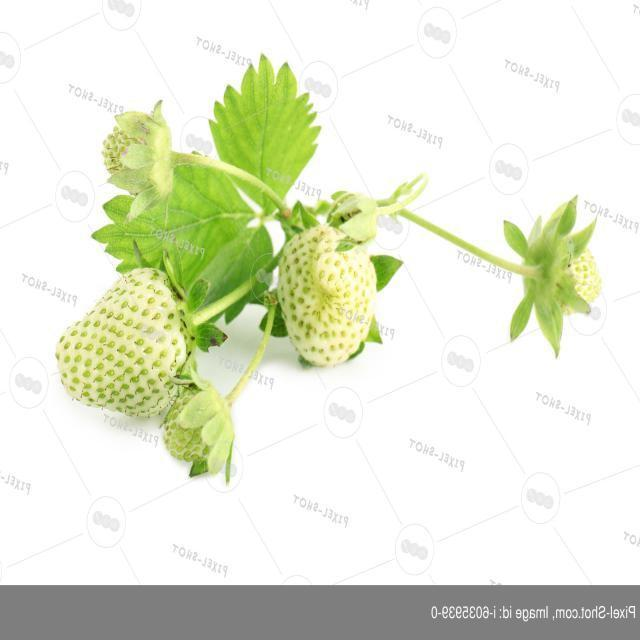Healthy Fruit: (54, 266, 192, 419), (275, 224, 377, 367)
